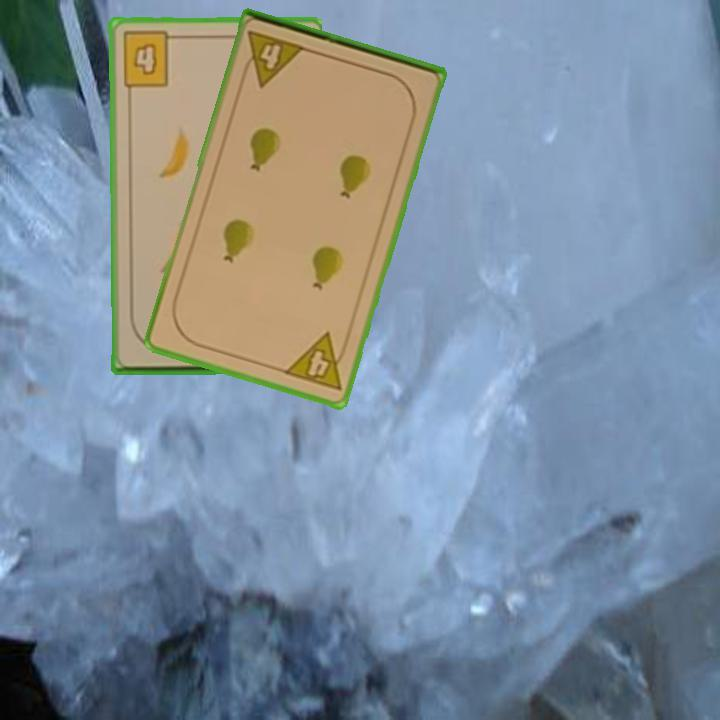4b: (119, 28, 181, 90)
4p: (280, 329, 353, 394), (237, 27, 308, 90)
